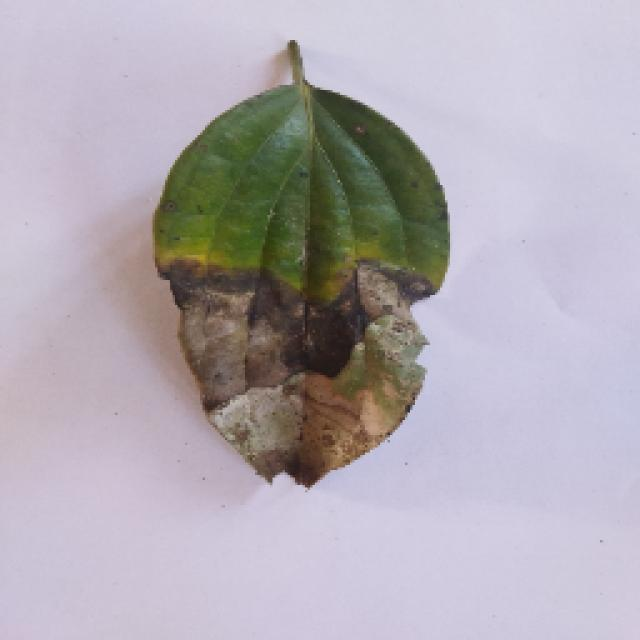footrot: (125, 35, 470, 490)
